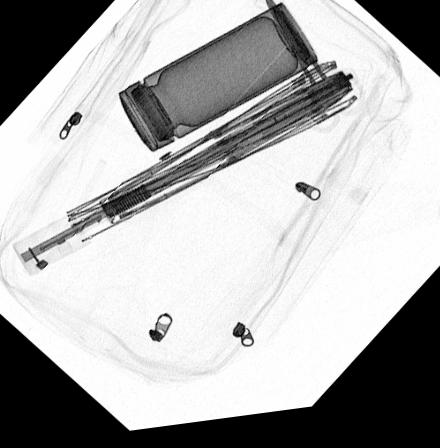Scissors: (265, 2, 361, 142)
